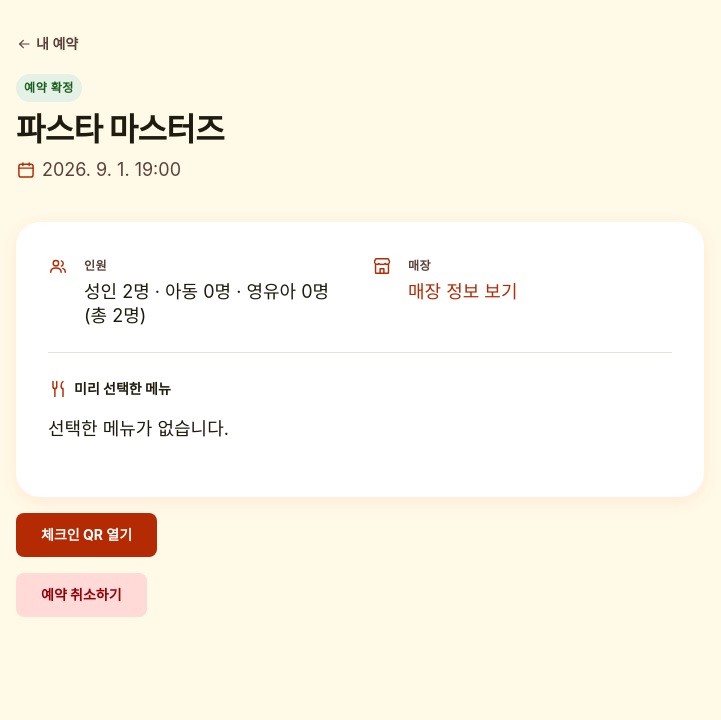
Test: 예약 상세 화면 › RESERVATION_006은 취소 정책 불가로 안내한다
Step 1. Click the button "예약 취소하기" → (81, 595), box [16,573,147,617]
(page scrolled)
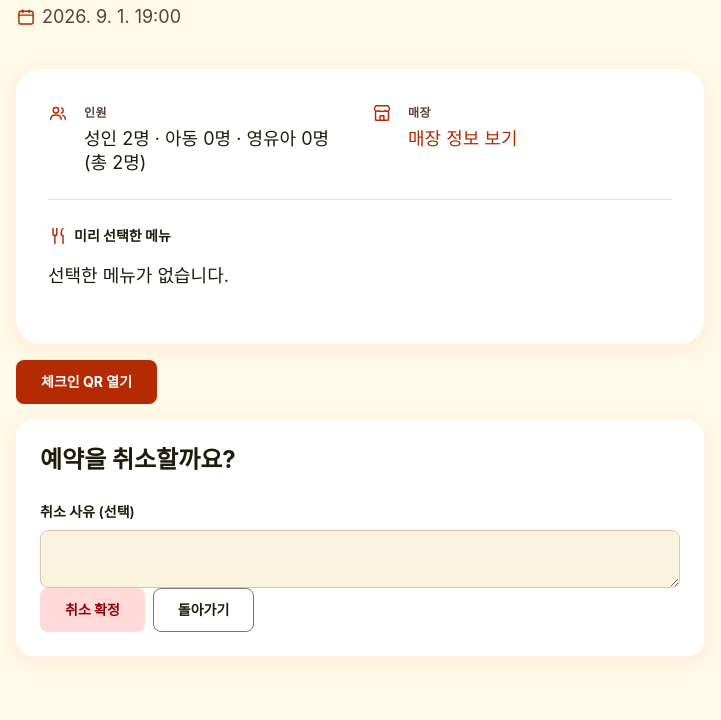
Step 2. Click the button "취소 확정" → (92, 610), box [40,588,145,632]
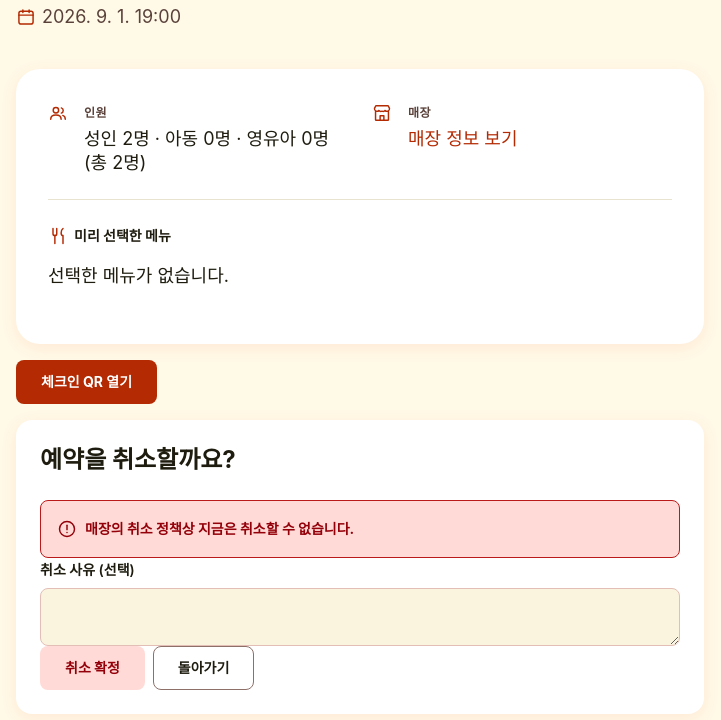
Now the text "매장의 취소 정책상 지금은 취소할 수 없습니다." is shown, box [85,520,354,537]
